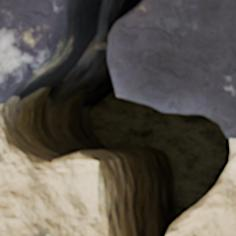broken_brick: (109, 0, 235, 139), (0, 0, 67, 104)
crack: (2, 0, 233, 235)
